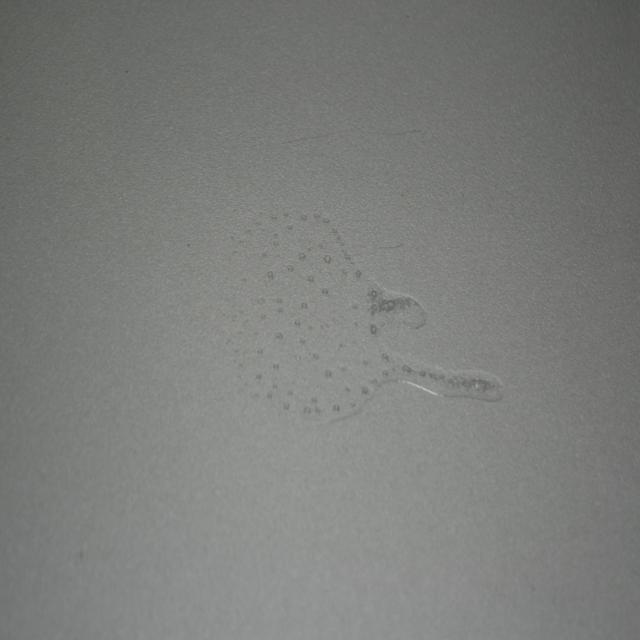runs: (237, 207, 501, 425)
